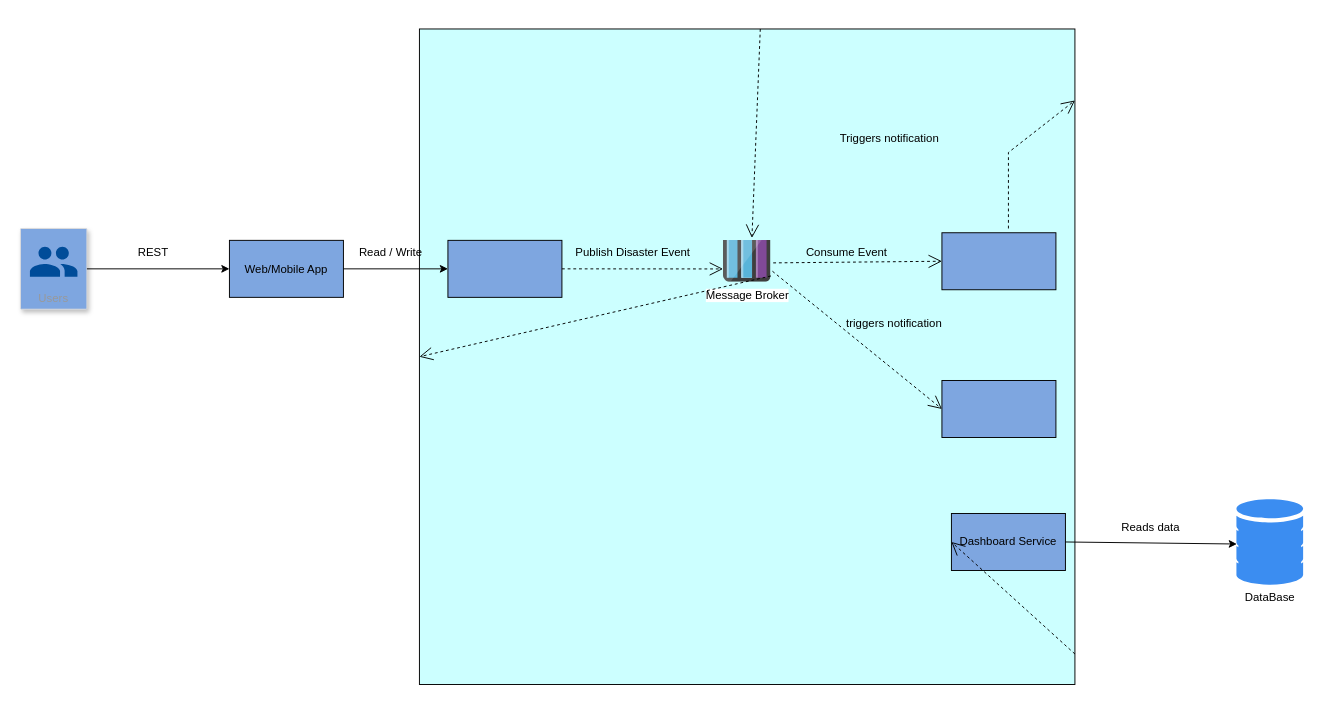
Image size: 1320x701. Some labels were removed from this diagram. The shapes that lost their labels are listed below. From the top down, each one's centre as x and y in pixels, then its label:
At point (504, 268): "Backend API".
At point (998, 261): "Disaster Processing Service".
At point (998, 408): "Notification Service".
